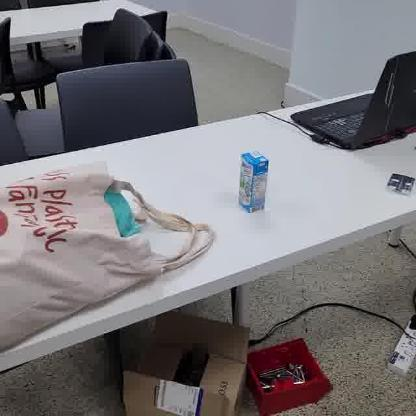Others: (232, 143, 272, 221)
